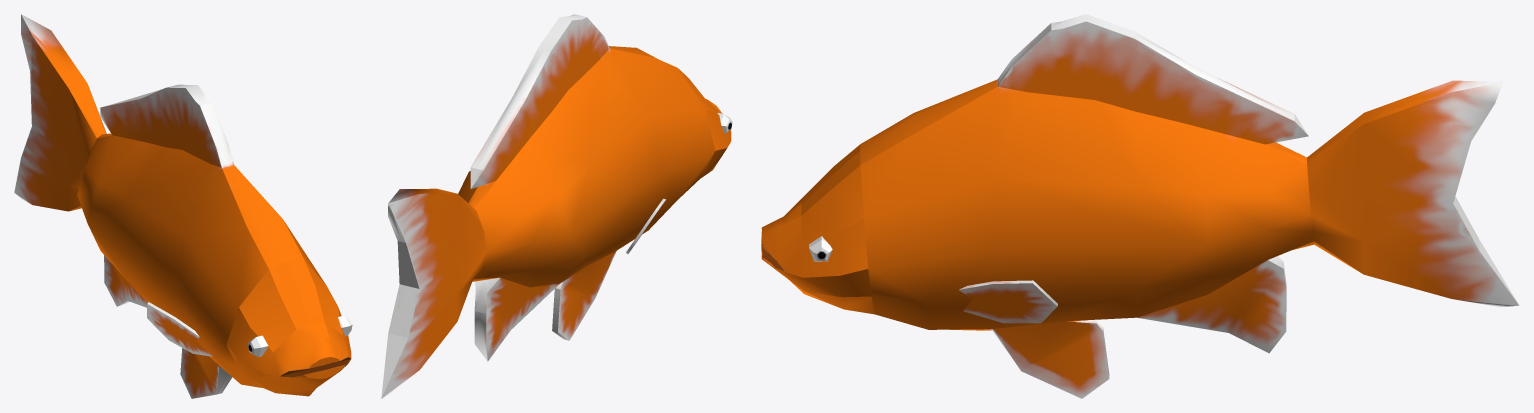
The picture shows the model from 3 angles, left to right: view 1: azimuth 30°, elevation 25°; view 2: azimuth 150°, elevation 25°; view 3: azimuth 270°, elevation 25°; orthographic projection. The views are drawn at different scales.
Visible parts, largest first — view 1: Body, rightFin, rightEye; view 2: Body; view 3: Body, leftFin.
Boxes of the visible parts, x1=… form: Body: x1=14, y1=14, x2=351, y2=398; rightFin: x1=147, y1=302, x2=212, y2=356; rightEye: x1=248, y1=335, x2=268, y2=357; Body: x1=381, y1=14, x2=731, y2=398; Body: x1=761, y1=14, x2=1519, y2=398; leftFin: x1=959, y1=280, x2=1057, y2=323.
Size of the model in its own units: 4.33 by 9.65 by 17.49.
Materials: 1 (1 with a texture image).
